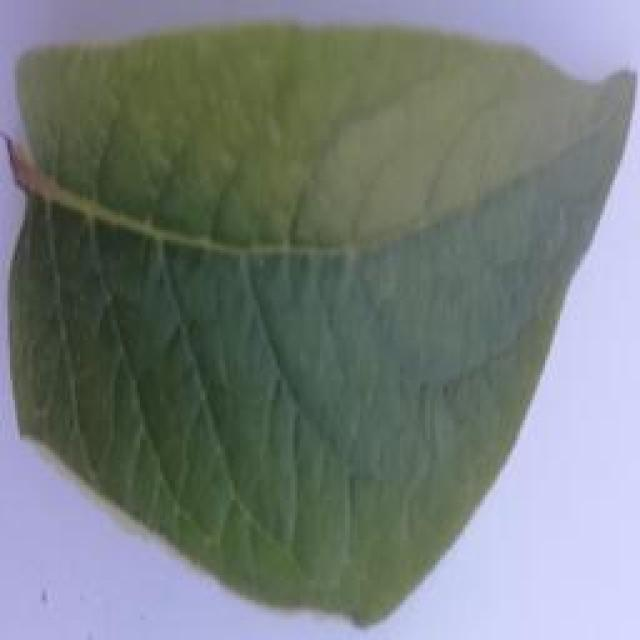Potato_Healthy: (6, 24, 629, 634)
